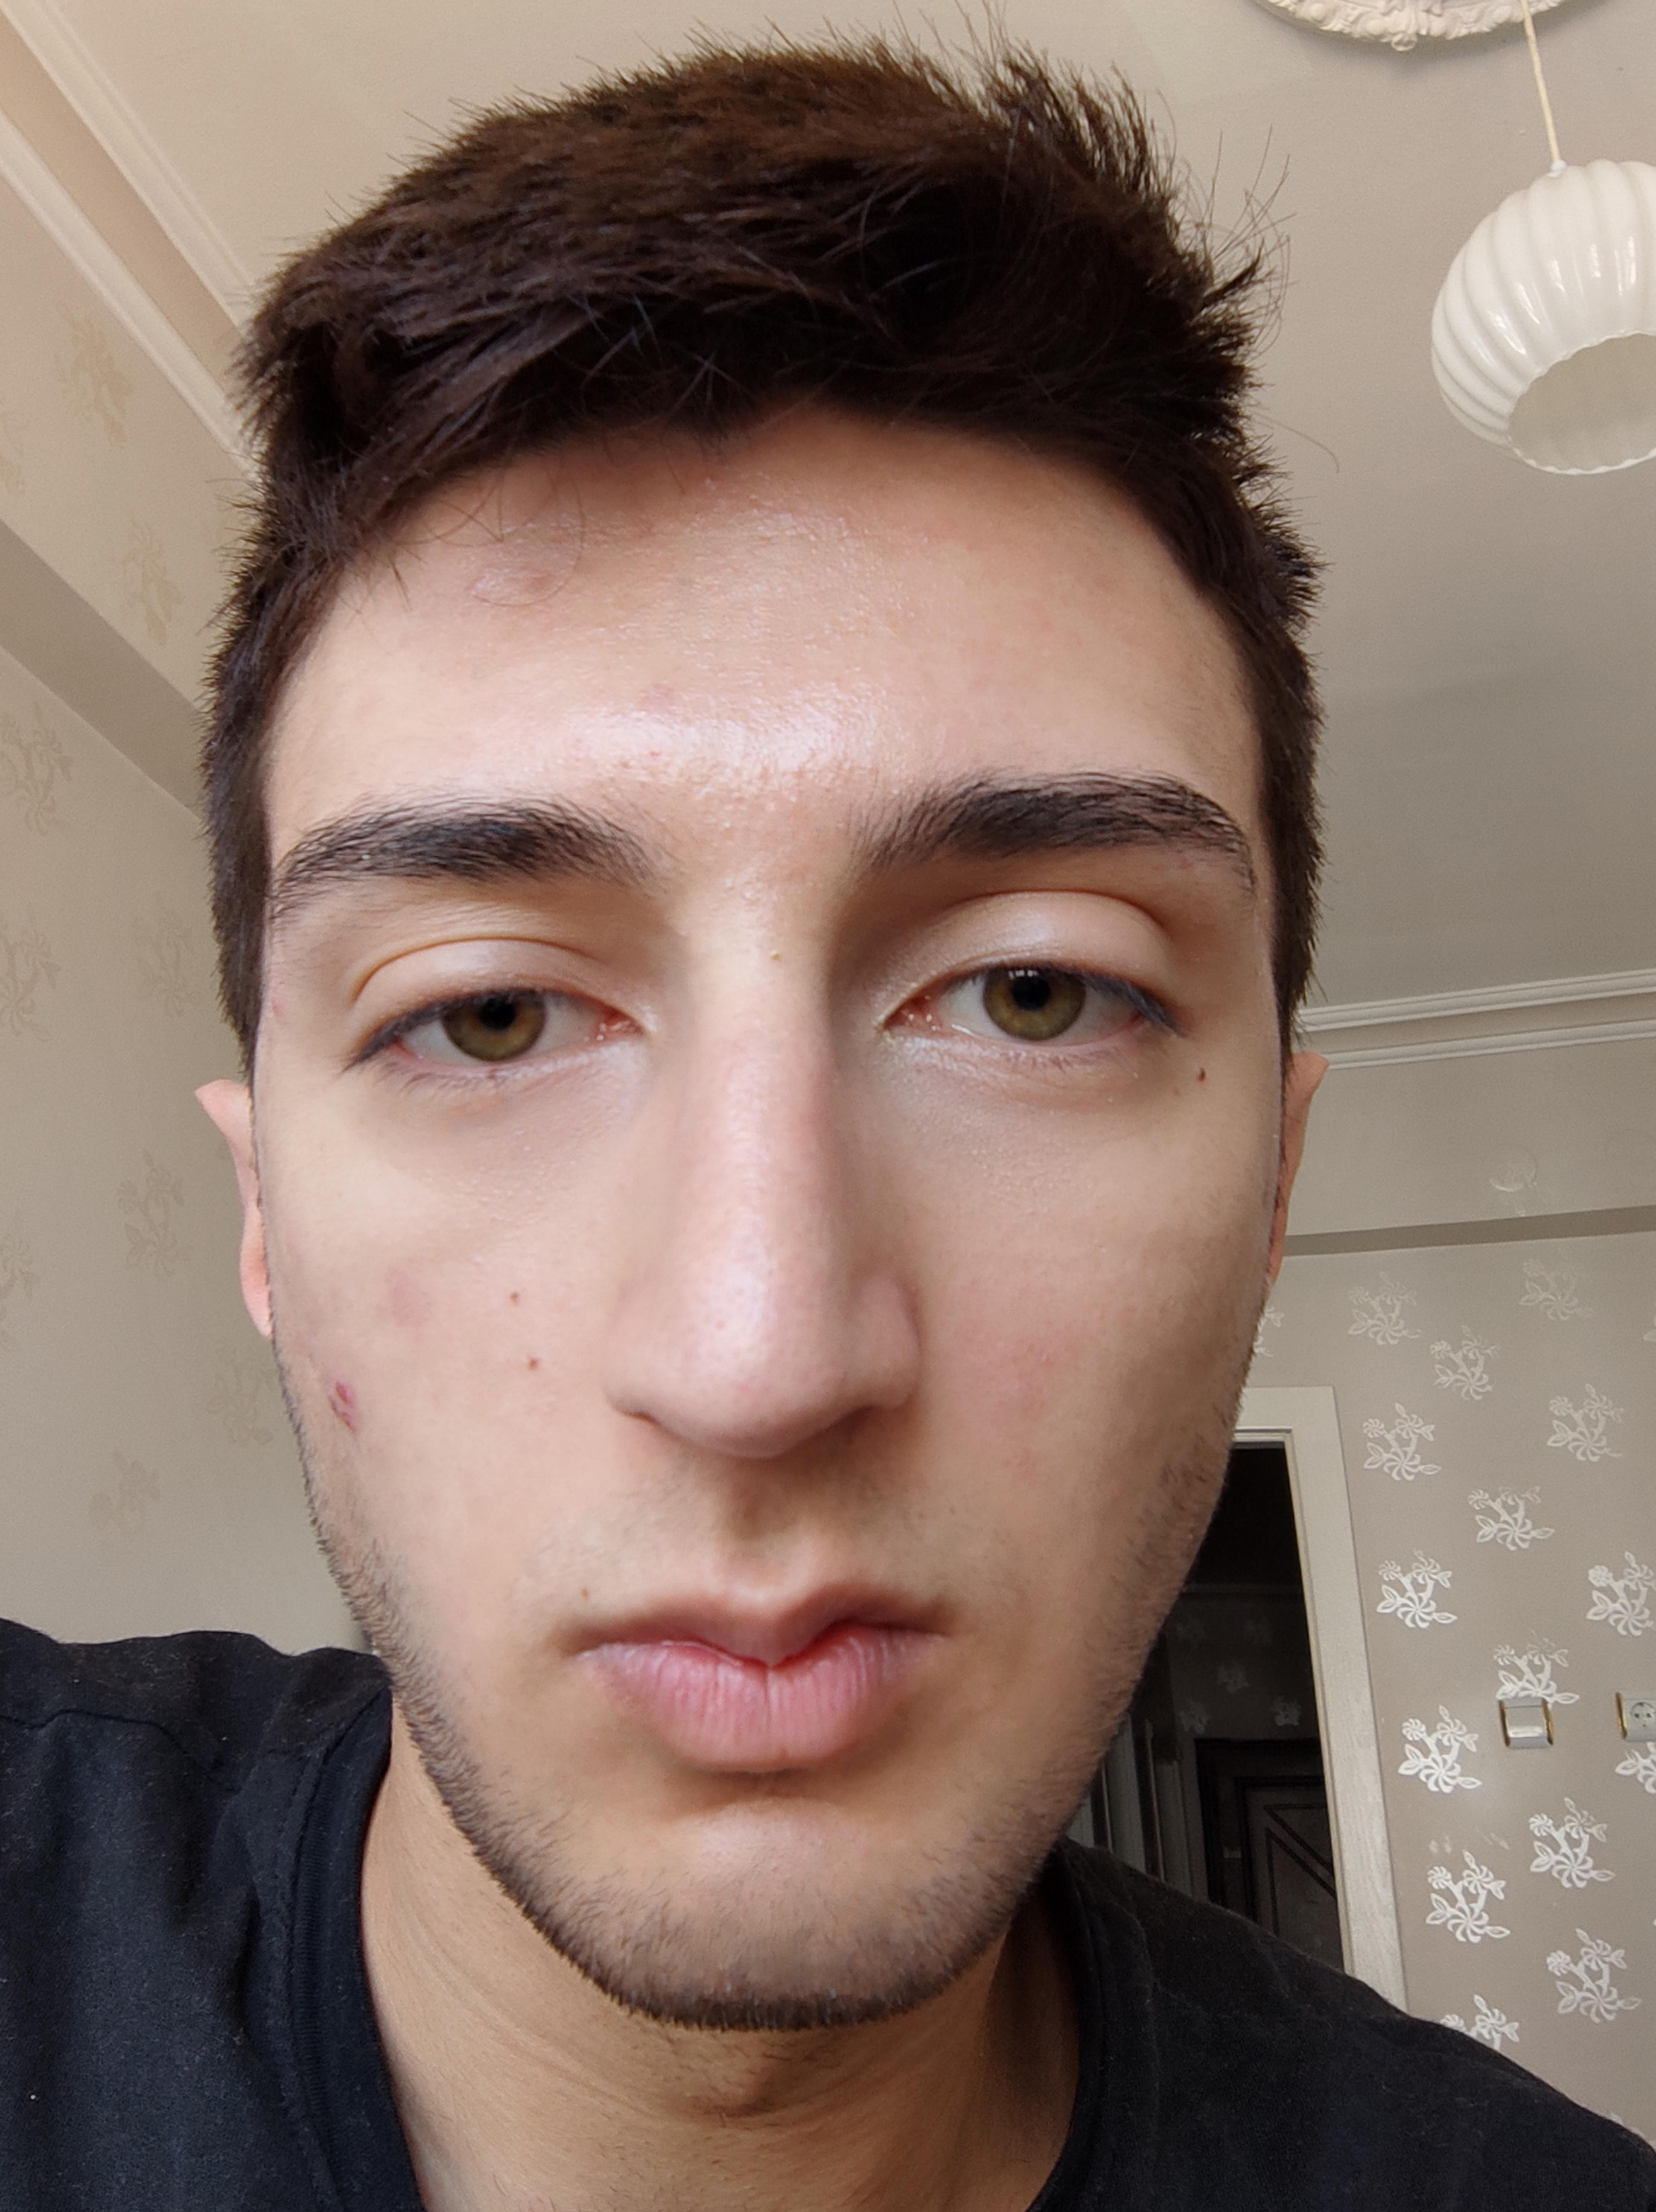Acne: (703, 786, 790, 838), (386, 1254, 438, 1337), (611, 670, 685, 725), (311, 1362, 362, 1440), (711, 875, 764, 911), (746, 755, 809, 783), (764, 499, 805, 529), (833, 506, 863, 537), (266, 989, 285, 1028)
